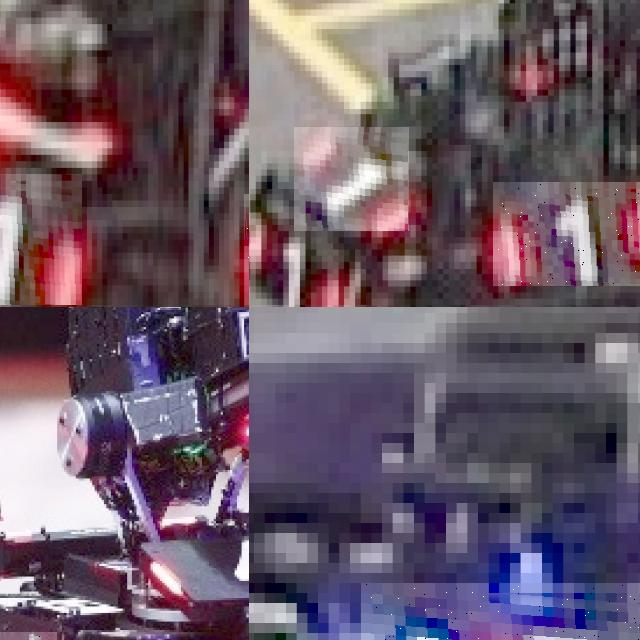B5: (360, 583, 640, 640)
R1: (493, 181, 640, 286), (294, 127, 410, 231), (0, 174, 81, 304), (249, 206, 349, 307)
